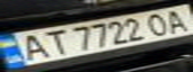2: (121, 15, 148, 43), (106, 17, 130, 46)
7: (69, 22, 93, 52), (90, 20, 112, 48)
A: (9, 32, 54, 62), (157, 7, 193, 33)
O: (142, 10, 175, 37)
T: (36, 27, 72, 56)
